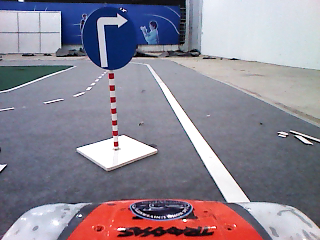turn: (80, 5, 139, 71)
